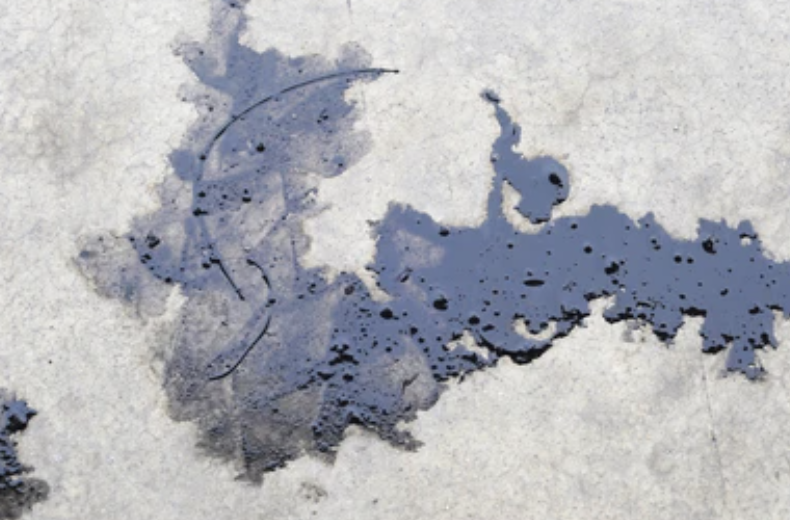oil: (38, 2, 393, 241), (1, 192, 29, 259)
